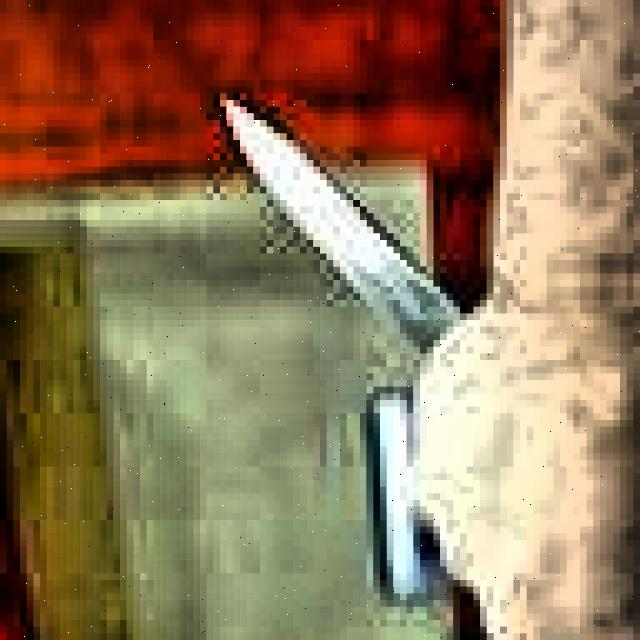knife: (225, 105, 461, 353)
